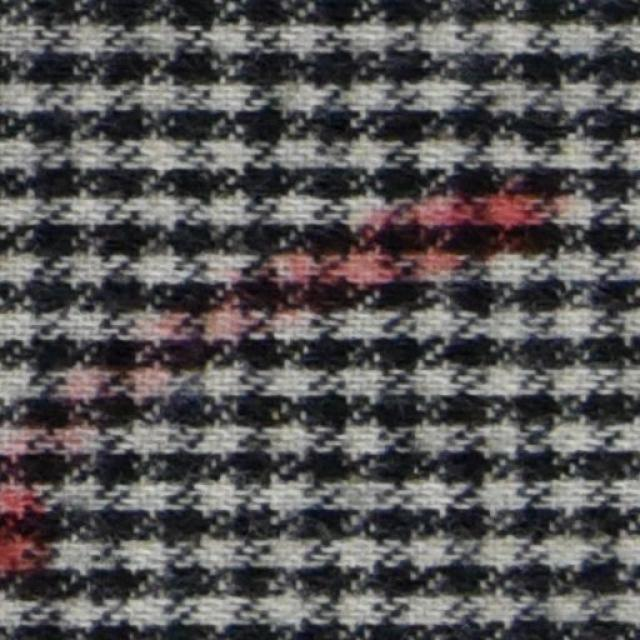Stain: (62, 189, 558, 422), (0, 461, 49, 584)
